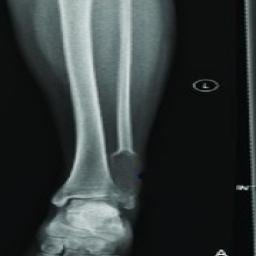cancer: (110, 151, 141, 210)
